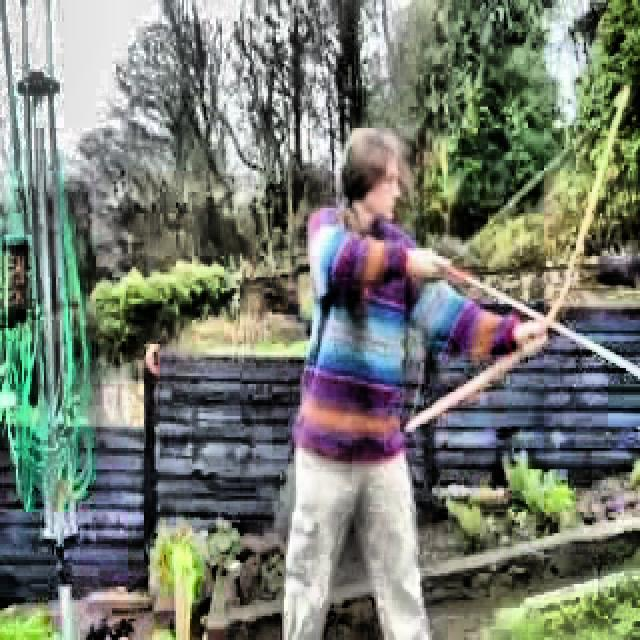I: (263, 103, 543, 640)
